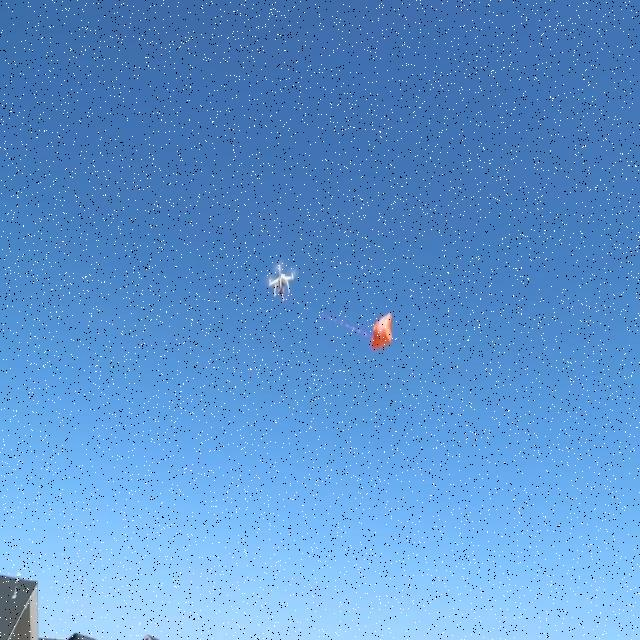UAV: (268, 264, 294, 303)
